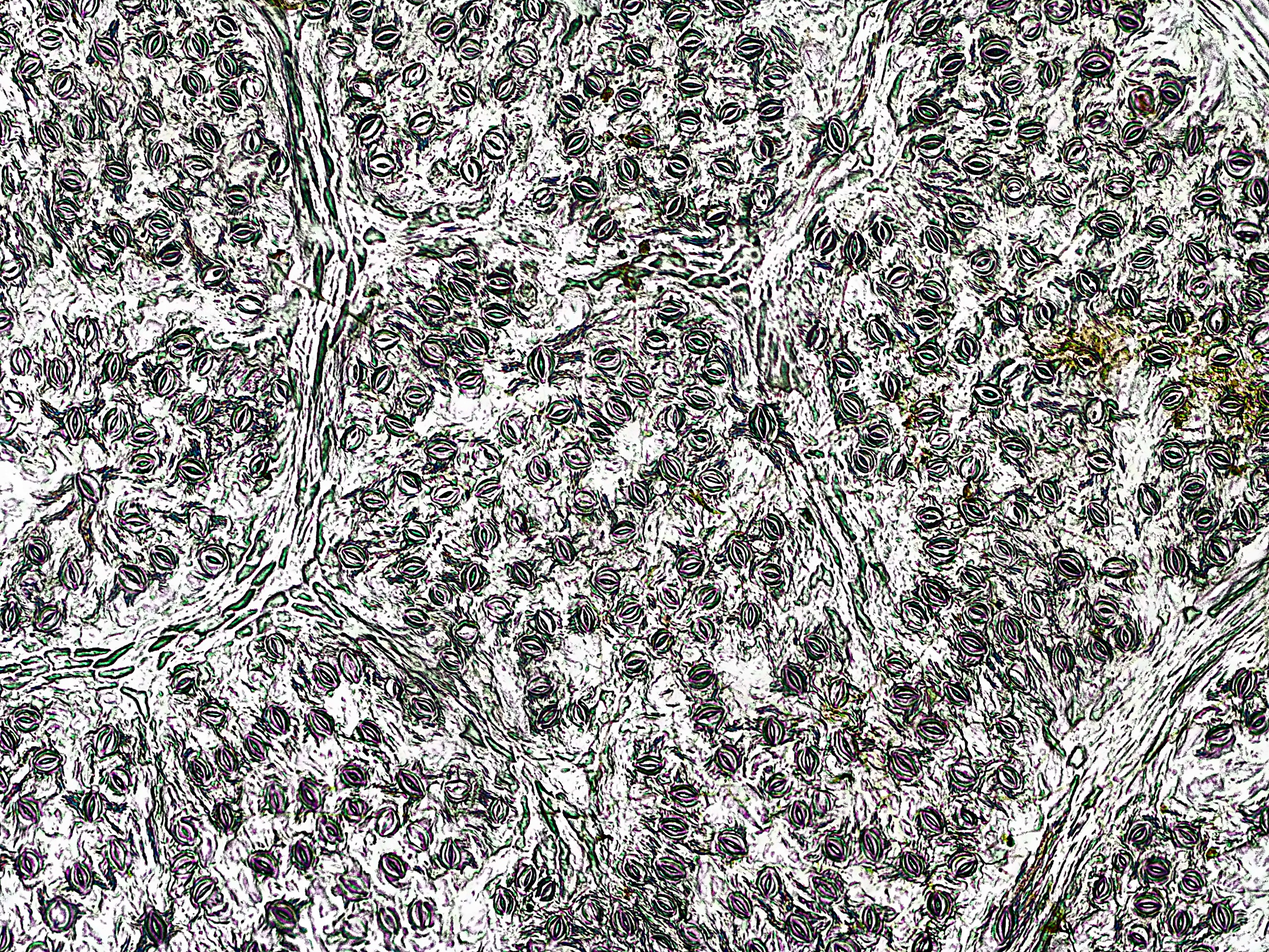stomata: (433, 762, 487, 802), (725, 21, 772, 63), (746, 393, 782, 443), (645, 848, 699, 879), (521, 337, 557, 383), (333, 416, 372, 453), (674, 419, 719, 451), (604, 903, 645, 938), (145, 907, 182, 945), (795, 316, 836, 350), (996, 759, 1031, 798), (1153, 434, 1190, 470), (594, 558, 629, 596), (1202, 435, 1240, 470), (562, 692, 595, 732), (1160, 539, 1192, 580), (995, 611, 1031, 647), (943, 204, 991, 231), (1021, 585, 1056, 622), (816, 118, 855, 151), (670, 24, 712, 54), (889, 743, 923, 780), (1070, 263, 1104, 299), (713, 743, 750, 776), (93, 29, 126, 66), (1172, 819, 1209, 852), (710, 0, 768, 21), (1050, 635, 1078, 678), (1184, 510, 1224, 540), (679, 387, 725, 413), (906, 399, 952, 425), (1114, 613, 1140, 659), (1061, 546, 1097, 579), (213, 801, 247, 835), (780, 663, 814, 697), (1132, 484, 1167, 517), (45, 896, 77, 932), (37, 116, 69, 152), (949, 756, 985, 788), (1156, 383, 1192, 415), (10, 704, 51, 732), (343, 74, 384, 102), (195, 261, 232, 292), (267, 903, 304, 934), (479, 300, 517, 330), (1013, 235, 1043, 273), (824, 349, 862, 379), (19, 791, 46, 833), (743, 184, 782, 213), (993, 900, 1017, 947), (412, 686, 446, 719), (305, 657, 337, 692), (754, 58, 794, 86), (914, 9, 949, 41), (134, 91, 164, 128), (991, 294, 1021, 331), (398, 764, 427, 802), (824, 672, 853, 710), (756, 859, 784, 898), (917, 579, 956, 607), (198, 544, 231, 577), (86, 243, 120, 275), (1084, 444, 1118, 476), (522, 455, 553, 490), (703, 198, 734, 233), (111, 835, 135, 880), (1112, 9, 1152, 36), (909, 719, 952, 744), (452, 618, 490, 646), (952, 848, 985, 880), (987, 534, 1018, 568), (250, 702, 289, 729), (68, 858, 98, 893), (4, 715, 25, 765), (579, 62, 609, 97), (918, 802, 948, 837), (900, 597, 930, 632), (841, 231, 866, 273), (1143, 336, 1178, 366), (1077, 51, 1117, 77), (956, 326, 982, 366), (170, 848, 207, 876), (1088, 209, 1126, 236), (834, 730, 866, 762), (808, 224, 840, 256), (1080, 632, 1112, 664), (76, 466, 105, 501), (692, 658, 721, 693), (481, 124, 510, 159), (492, 884, 518, 923), (402, 382, 441, 408), (365, 25, 404, 51), (757, 512, 793, 540), (413, 292, 453, 317), (361, 714, 388, 751), (754, 133, 781, 170), (943, 676, 975, 707), (912, 341, 944, 372), (32, 602, 65, 632), (758, 714, 791, 744), (994, 711, 1024, 744), (655, 189, 688, 219), (1202, 302, 1232, 335), (704, 152, 742, 178), (431, 479, 465, 508), (796, 743, 825, 777), (958, 801, 987, 835), (79, 786, 104, 825), (933, 52, 969, 79), (424, 436, 461, 462), (1073, 347, 1110, 373), (93, 89, 124, 120), (613, 153, 644, 184), (308, 715, 348, 739), (516, 630, 548, 660), (565, 491, 605, 515), (924, 890, 954, 922), (593, 341, 625, 371), (250, 851, 283, 880), (398, 468, 431, 497), (409, 822, 438, 855), (958, 563, 991, 592), (485, 599, 519, 627), (742, 599, 770, 633), (336, 644, 361, 682), (452, 366, 490, 391), (632, 747, 667, 774), (101, 768, 137, 794), (477, 513, 503, 549), (977, 38, 1013, 64), (1205, 347, 1244, 371), (1060, 142, 1097, 167), (869, 316, 894, 353), (1000, 436, 1037, 461), (267, 774, 289, 816), (833, 393, 866, 421), (0, 104, 20, 150), (613, 84, 647, 111), (615, 856, 653, 880), (911, 505, 949, 529), (661, 1, 696, 27), (676, 70, 711, 96), (889, 681, 924, 707), (380, 851, 410, 881), (1231, 503, 1261, 533), (213, 49, 242, 80), (590, 210, 619, 241), (1006, 664, 1037, 693), (1143, 851, 1172, 882), (721, 828, 749, 860), (58, 165, 90, 193), (417, 337, 449, 365), (1039, 182, 1071, 210), (1222, 147, 1254, 175), (342, 534, 369, 567), (446, 81, 479, 108), (175, 672, 212, 696), (232, 290, 266, 316), (688, 618, 722, 644), (661, 153, 695, 179), (877, 455, 911, 481), (1204, 721, 1238, 747), (905, 309, 945, 331), (410, 899, 435, 934), (661, 399, 686, 434), (192, 876, 221, 906), (1040, 480, 1069, 510), (540, 606, 568, 637), (1183, 238, 1214, 266), (164, 181, 191, 213), (471, 443, 507, 467), (376, 900, 400, 936), (459, 1, 491, 28), (802, 627, 829, 659), (101, 400, 122, 441), (722, 97, 748, 130), (3, 596, 22, 641), (394, 560, 428, 585), (697, 704, 731, 729), (626, 42, 660, 67), (883, 650, 917, 675), (787, 801, 816, 830), (507, 506, 535, 536), (496, 419, 526, 447), (958, 629, 988, 657), (968, 380, 1008, 401), (1099, 557, 1134, 581), (653, 583, 684, 610), (810, 874, 841, 901), (1003, 172, 1030, 203), (923, 426, 954, 453), (65, 404, 87, 442), (112, 0, 164, 16), (858, 902, 884, 934), (1013, 15, 1045, 41), (188, 758, 213, 791), (217, 751, 242, 784), (52, 199, 85, 224), (901, 848, 926, 881), (359, 491, 400, 511), (659, 818, 700, 838), (1044, 4, 1081, 26), (344, 761, 374, 788), (438, 649, 468, 676), (962, 146, 992, 173), (955, 449, 985, 476), (1219, 388, 1246, 418), (246, 729, 272, 760), (551, 536, 577, 567), (462, 324, 488, 355), (788, 914, 814, 945), (961, 596, 992, 622), (629, 124, 664, 147), (924, 223, 947, 258), (59, 559, 84, 591), (119, 571, 151, 596), (561, 443, 593, 468), (972, 243, 997, 275), (607, 0, 649, 19), (881, 367, 902, 405), (1213, 902, 1237, 935), (562, 128, 591, 155), (1082, 498, 1111, 525), (1102, 180, 1136, 203), (157, 358, 177, 397), (383, 411, 413, 437), (184, 30, 210, 60), (677, 923, 707, 949), (676, 546, 707, 571), (855, 446, 879, 478), (864, 423, 896, 447), (33, 749, 61, 776), (96, 729, 123, 757), (170, 818, 198, 845), (509, 44, 545, 65), (926, 539, 968, 557), (21, 534, 47, 563), (404, 603, 430, 632), (822, 834, 848, 863), (888, 262, 914, 291), (488, 798, 518, 823), (144, 30, 169, 60), (214, 13, 244, 38), (1144, 151, 1174, 176), (73, 109, 95, 143), (35, 1, 69, 23), (1247, 706, 1269, 740), (437, 848, 468, 872), (269, 145, 293, 176), (542, 400, 573, 424), (962, 492, 982, 529), (516, 0, 551, 21), (657, 299, 692, 320), (670, 787, 713, 804), (428, 17, 455, 44), (729, 891, 755, 919), (1160, 79, 1188, 105), (1205, 536, 1231, 564), (342, 876, 375, 898), (997, 71, 1030, 93), (1176, 474, 1209, 496), (319, 818, 344, 847), (488, 269, 517, 294), (758, 563, 787, 588), (750, 101, 788, 120), (513, 560, 537, 590), (1036, 298, 1060, 328), (302, 776, 325, 807), (1132, 84, 1155, 115), (705, 356, 728, 387), (74, 313, 96, 345), (49, 354, 71, 386), (649, 894, 681, 916), (1234, 220, 1266, 242), (659, 457, 685, 484), (586, 419, 613, 445), (270, 377, 295, 405), (18, 851, 43, 879), (479, 477, 507, 502), (874, 221, 899, 249), (1234, 668, 1259, 696), (331, 29, 355, 58), (403, 62, 427, 91), (578, 175, 602, 204), (1030, 359, 1059, 383), (1125, 818, 1154, 842), (449, 246, 482, 267), (155, 541, 178, 571), (185, 155, 216, 177), (913, 133, 947, 153), (608, 395, 634, 421), (183, 70, 210, 95), (410, 113, 437, 138), (1131, 246, 1156, 273), (9, 346, 33, 374), (465, 567, 488, 596), (912, 929, 941, 952), (1160, 308, 1197, 326), (397, 523, 432, 542), (105, 347, 127, 377), (197, 120, 219, 150), (1121, 125, 1151, 147), (125, 451, 156, 472), (372, 328, 403, 349), (1133, 893, 1164, 914), (1172, 905, 1193, 936), (359, 115, 384, 141), (493, 72, 519, 97), (728, 541, 754, 566), (651, 632, 678, 656), (1241, 286, 1268, 310), (763, 772, 791, 795), (862, 827, 882, 859), (1091, 598, 1123, 618), (1119, 283, 1141, 312), (55, 68, 76, 98), (1250, 320, 1269, 353), (3, 254, 28, 279), (700, 584, 725, 609), (1037, 63, 1062, 88), (1085, 402, 1110, 427), (579, 596, 595, 635), (1246, 251, 1269, 278), (203, 707, 232, 728), (380, 809, 401, 838), (675, 110, 704, 131), (168, 334, 200, 353), (294, 840, 314, 870), (246, 74, 270, 99), (1145, 216, 1175, 236), (1185, 275, 1215, 295), (108, 162, 134, 185), (537, 877, 560, 903), (430, 587, 456, 610), (915, 99, 941, 122), (1196, 185, 1219, 211), (120, 513, 155, 530), (1124, 929, 1151, 951), (299, 3, 330, 22), (1044, 425, 1075, 444), (179, 459, 207, 480), (1003, 508, 1031, 529), (616, 604, 645, 624), (447, 276, 476, 296), (627, 482, 651, 506), (187, 396, 209, 422), (622, 654, 648, 676), (3, 914, 18, 952), (225, 187, 252, 208), (374, 367, 395, 394), (532, 187, 559, 208), (1090, 871, 1111, 898), (233, 403, 253, 431), (519, 862, 537, 893), (623, 374, 652, 393), (383, 678, 405, 703), (1111, 849, 1136, 871), (557, 96, 583, 117), (152, 248, 188, 263), (244, 125, 262, 155), (463, 157, 481, 187), (686, 335, 716, 353), (923, 457, 950, 477), (146, 219, 174, 238), (643, 329, 671, 348), (925, 280, 948, 303), (608, 526, 641, 542), (343, 804, 374, 821), (226, 227, 261, 242), (6, 391, 27, 416), (1248, 179, 1269, 204), (149, 141, 167, 170), (366, 156, 395, 174), (983, 113, 1009, 133), (35, 31, 65, 48), (988, 0, 1022, 15), (1184, 871, 1206, 894), (0, 303, 16, 334), (344, 4, 375, 20), (1253, 410, 1269, 441), (540, 704, 557, 733), (458, 38, 481, 59), (1184, 132, 1204, 156), (699, 473, 733, 487), (1082, 0, 1111, 16), (220, 93, 241, 115), (530, 674, 550, 697), (1085, 112, 1108, 132), (17, 59, 44, 76), (74, 1, 104, 16), (252, 450, 268, 478), (1253, 380, 1269, 408), (194, 353, 215, 374), (346, 355, 361, 384), (550, 920, 572, 939), (2, 22, 16, 50), (742, 940, 774, 952), (132, 426, 157, 441), (114, 224, 130, 247), (270, 641, 286, 664), (1019, 124, 1042, 140)
